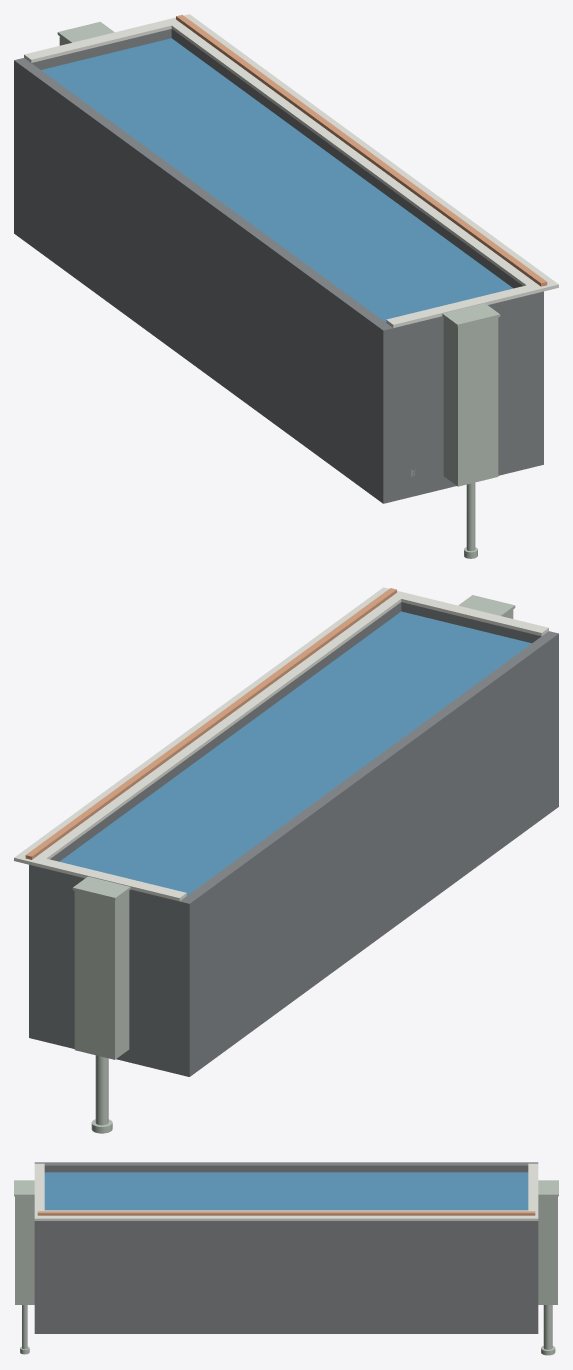
Rendered from SM_ElectrolyticCell.fbx.
3 renders of one model, top to bottom at view 1: azimuth 30°, elevation 25°; view 2: azimuth 150°, elevation 25°; view 3: azimuth 270°, elevation 25°, orthographic. The views are drawn at different scales.
Parts seen in each view (by area): view 1: EC_Body, EC_Electrolyte, EC_FeedOverflow, EC_Capping, EC_IntercellBar; view 2: EC_Body, EC_Electrolyte, EC_FeedOverflow, EC_Capping, EC_IntercellBar; view 3: EC_Body, EC_Electrolyte, EC_FeedOverflow, EC_Capping, EC_IntercellBar.
Part boxes in pixels (x1,y1,x2,y2): EC_Body: (14, 29, 543, 503); EC_Electrolyte: (41, 38, 513, 322); EC_FeedOverflow: (57, 21, 500, 558); EC_Capping: (24, 14, 558, 327); EC_IntercellBar: (176, 14, 547, 286); EC_Body: (29, 602, 558, 1076); EC_Electrolyte: (59, 611, 531, 895); EC_FeedOverflow: (72, 595, 515, 1133); EC_Capping: (14, 587, 548, 901); EC_IntercellBar: (25, 588, 396, 859); EC_Body: (34, 1162, 538, 1333); EC_Electrolyte: (44, 1172, 528, 1210); EC_FeedOverflow: (14, 1180, 558, 1355); EC_Capping: (34, 1163, 538, 1220); EC_IntercellBar: (37, 1211, 535, 1215).
Size of the model in its own units: 140 by 188 by 552.
